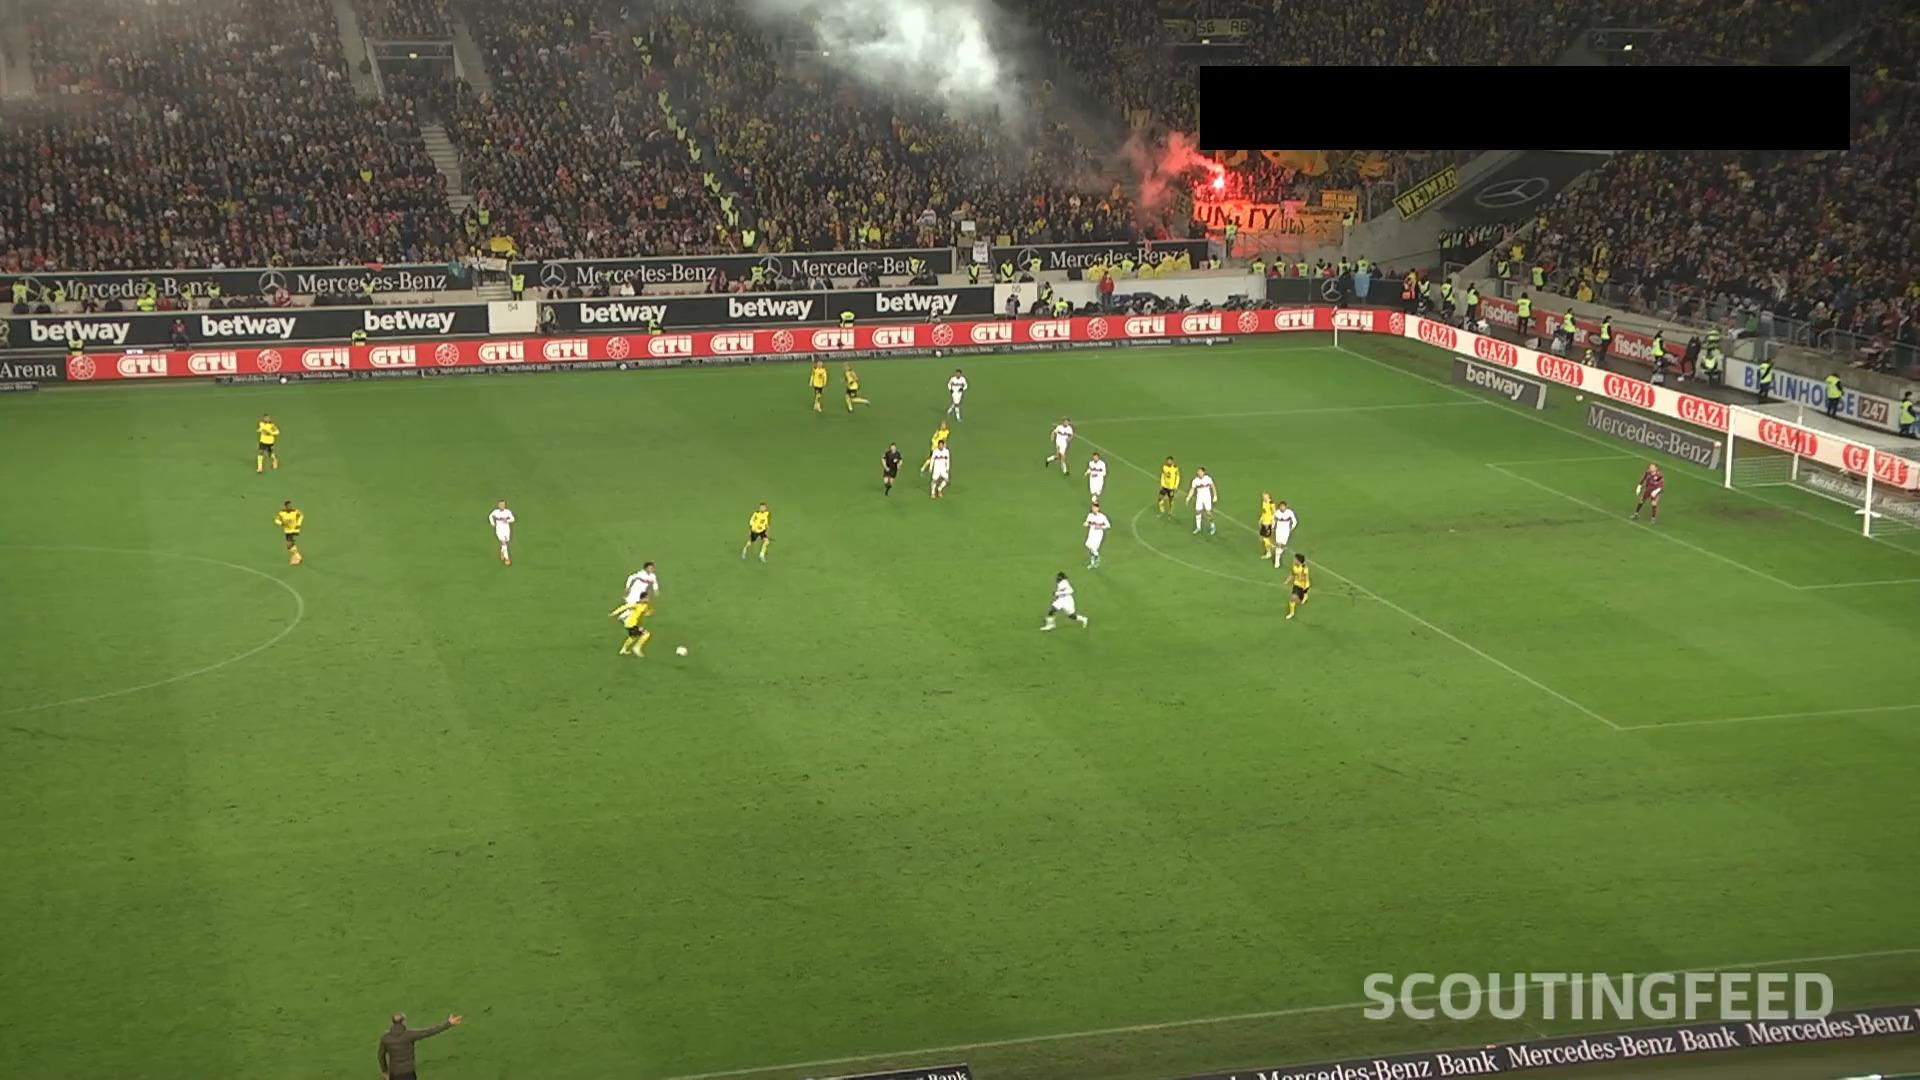ball: (674, 643, 688, 658)
keeper: (1632, 462, 1666, 522)
player: (607, 591, 652, 658), (1040, 573, 1088, 633), (619, 561, 660, 621), (1187, 467, 1218, 535), (740, 500, 773, 561), (275, 499, 304, 566), (1082, 501, 1111, 568), (1045, 416, 1075, 476), (490, 500, 517, 566), (1285, 554, 1312, 618), (1272, 501, 1298, 567), (919, 422, 949, 477), (841, 361, 872, 413), (255, 412, 280, 473), (1157, 454, 1180, 519), (1084, 452, 1107, 508), (930, 439, 951, 499), (1257, 491, 1275, 559), (947, 365, 968, 422), (808, 359, 827, 411)
referee: (881, 441, 904, 497)
